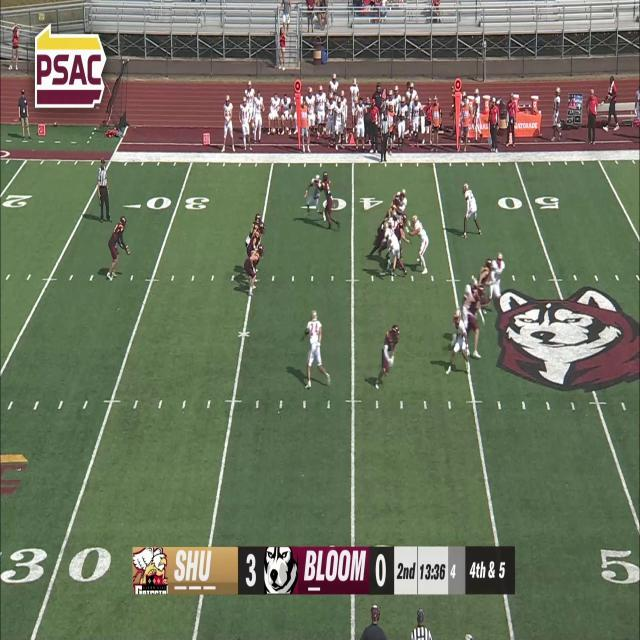football: (124, 244, 131, 256)
